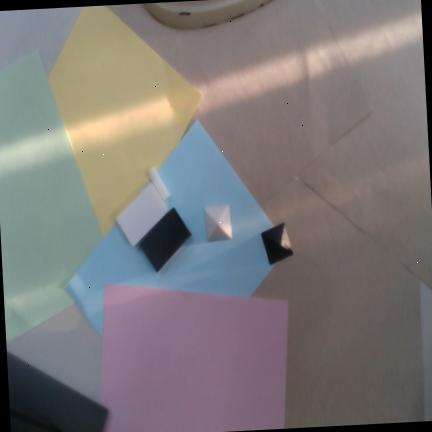Cilindro: (148, 167, 170, 201)
Paralelepipedo: (115, 181, 170, 248), (139, 207, 192, 273)
Piramide: (261, 222, 294, 266), (203, 205, 233, 242)
